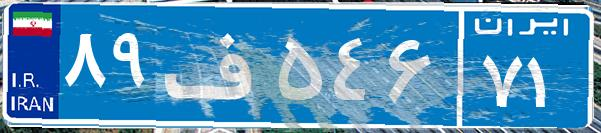1: (525, 38, 570, 115)
4: (330, 28, 385, 110)
5: (273, 28, 330, 110)
6: (385, 28, 445, 110)
7: (475, 38, 525, 113)
8: (57, 26, 110, 107)
9: (110, 28, 158, 105)
ف: (158, 15, 273, 115)
